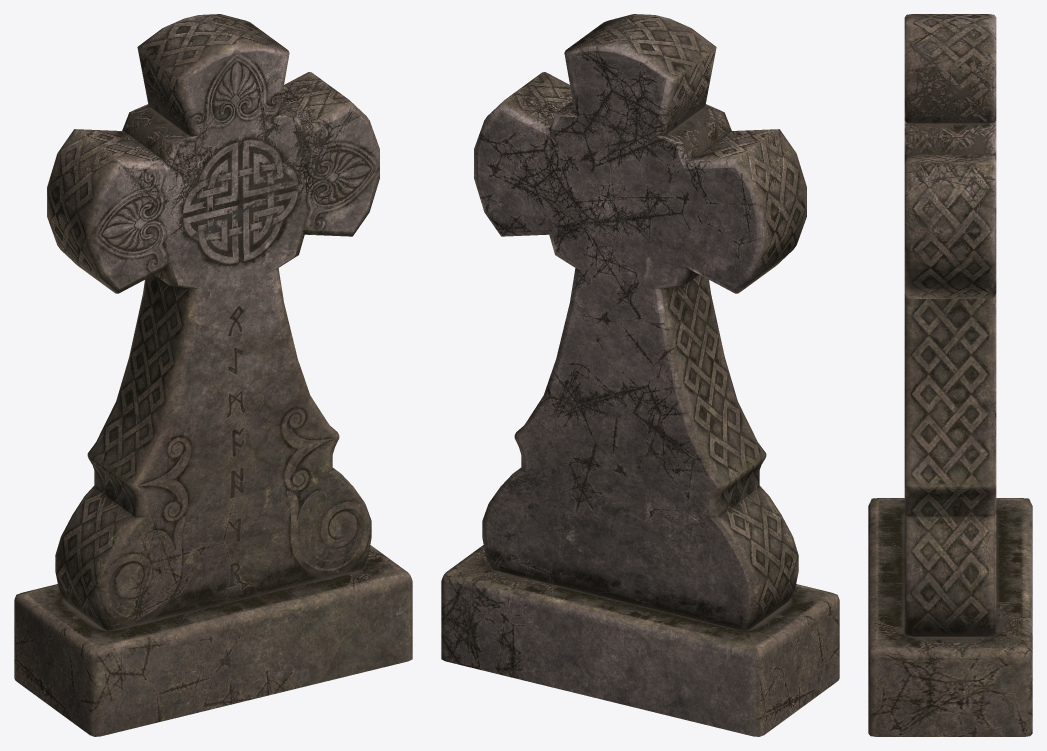
Rendered from SM_gravestone_35.fbx.
3 views of the same model, side by side, from view 1: azimuth 30°, elevation 25°; view 2: azimuth 150°, elevation 25°; view 3: azimuth 270°, elevation 25° (orthographic).
Visible parts, largest first — view 1: SM_gravestone_035; view 2: SM_gravestone_035; view 3: SM_gravestone_035.
Part boxes in pixels (bbox=[...]): SM_gravestone_035: bbox=[14, 14, 412, 736]; SM_gravestone_035: bbox=[441, 14, 839, 736]; SM_gravestone_035: bbox=[868, 14, 1032, 736].
Bounding box in the file's own units: 58.31 × 111 × 25.85.
